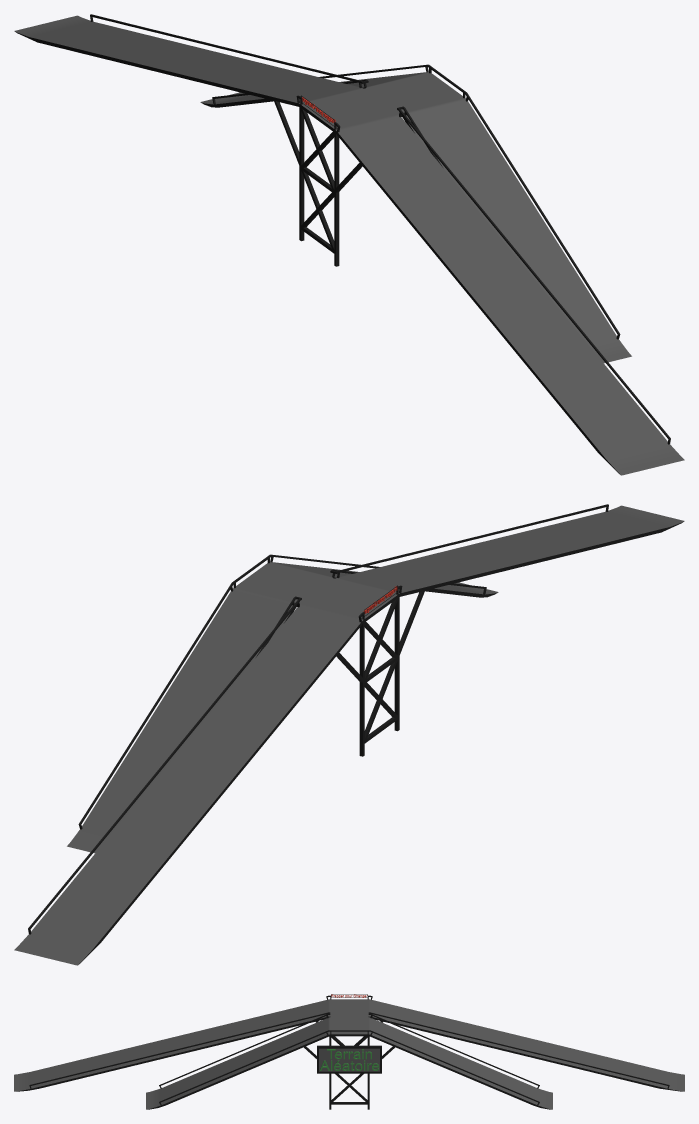
Rendered from Nouveau Pont ouvert v8.fbx.
The picture shows the model from 3 angles, top to bottom: view 1: azimuth 30°, elevation 25°; view 2: azimuth 150°, elevation 25°; view 3: azimuth 270°, elevation 25°; orthographic projection. The views are drawn at different scales.
Parts seen in each view (by area): view 1: Body2; view 2: Body2; view 3: Body2.
Part boxes in pixels (left/top/right/bottom): Body2: left=14, top=14, right=684, bottom=475; Body2: left=14, top=504, right=684, bottom=965; Body2: left=14, top=999, right=684, bottom=1109.
Bounding box in the file's own units: 42.5 × 43.78 × 331.
